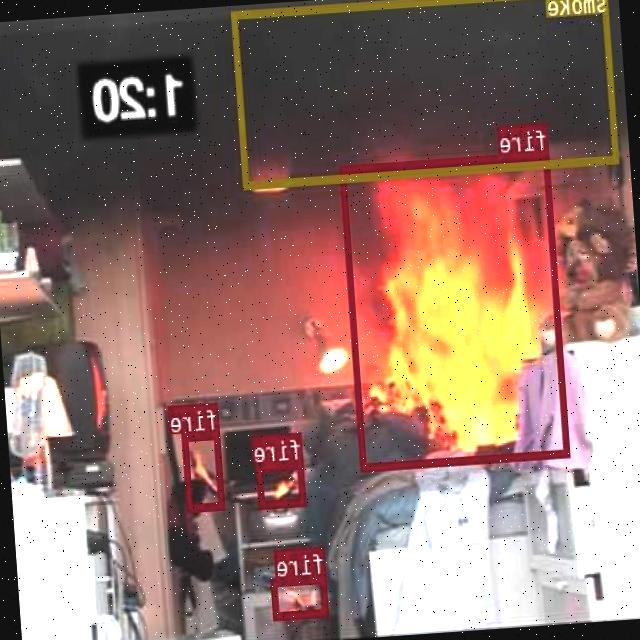fire: (340, 150, 572, 469), (183, 429, 226, 511), (272, 572, 328, 619), (257, 458, 307, 506)
smoke: (232, 0, 619, 187)
